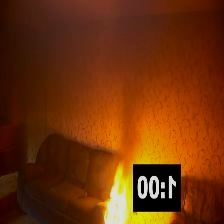fire: (107, 171, 132, 224)
